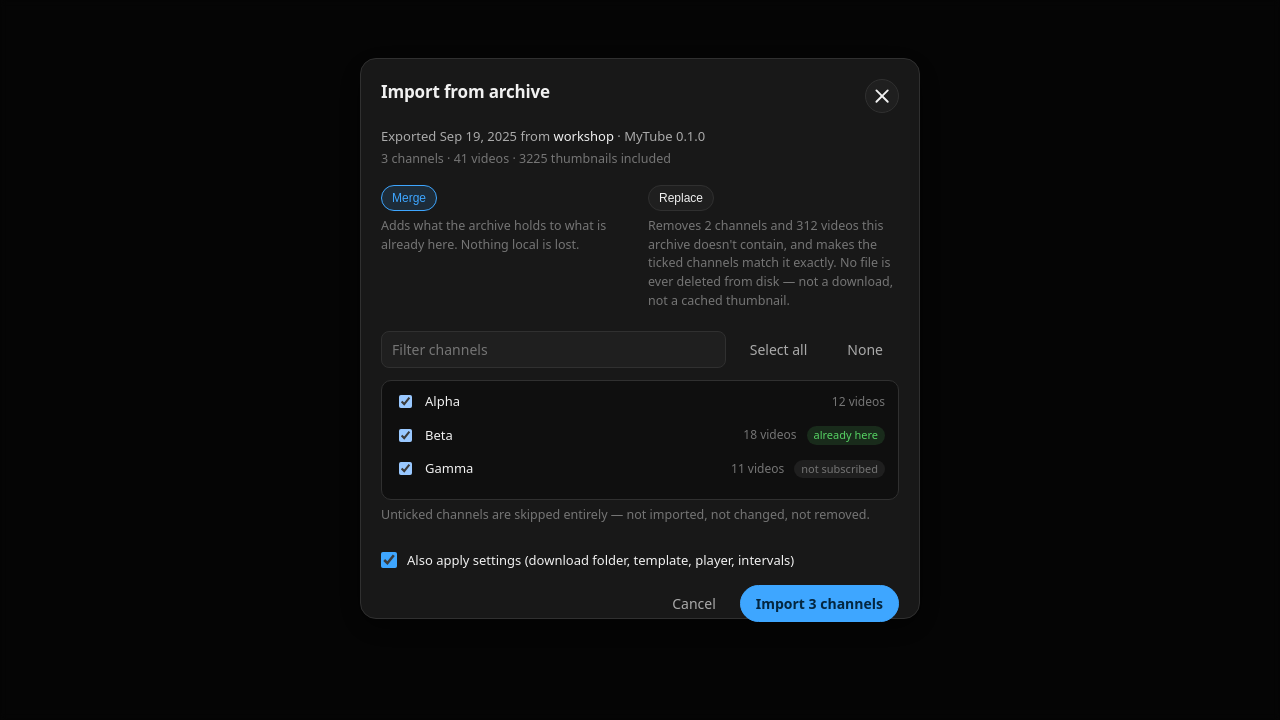
Test: TransferDialog › asks again before replacing, and imports nothing if that is cancelled
Click the button "Replace" at x=681, y=198, box x1=648 y1=185 x2=714 y2=211
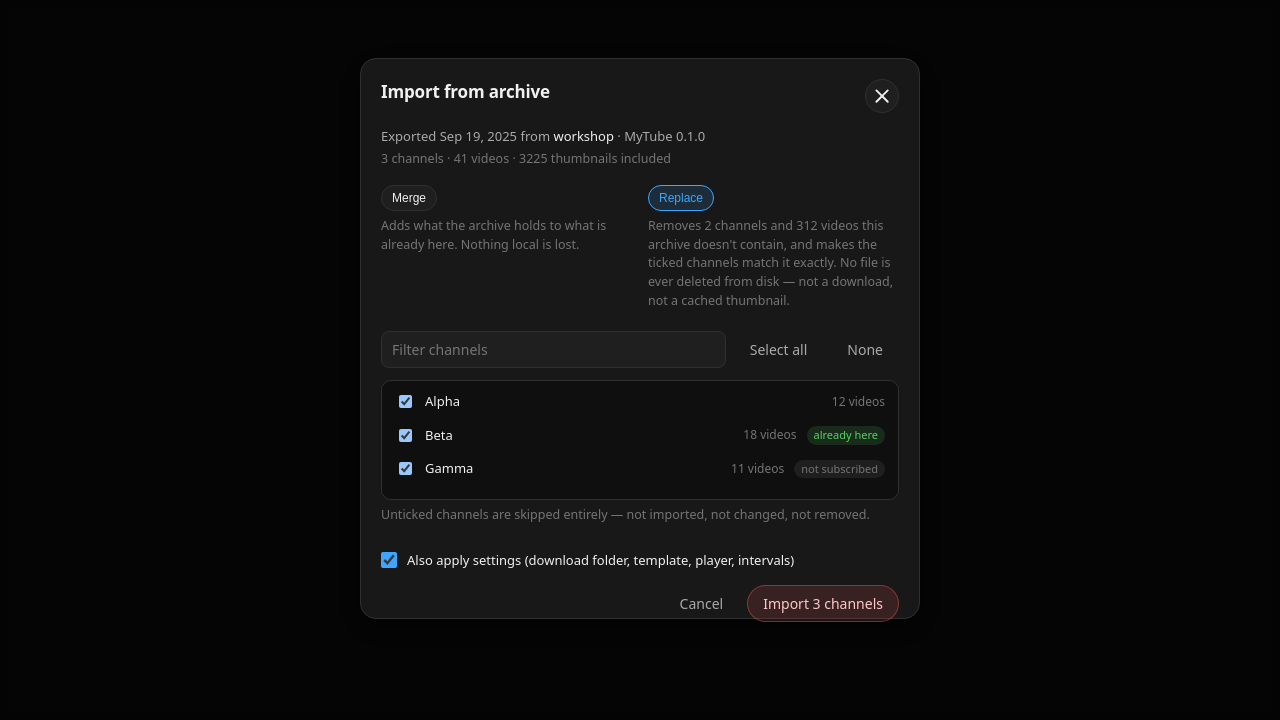
Click the button "Import 3 channels" at x=823, y=603, box x1=747 y1=585 x2=899 y2=622
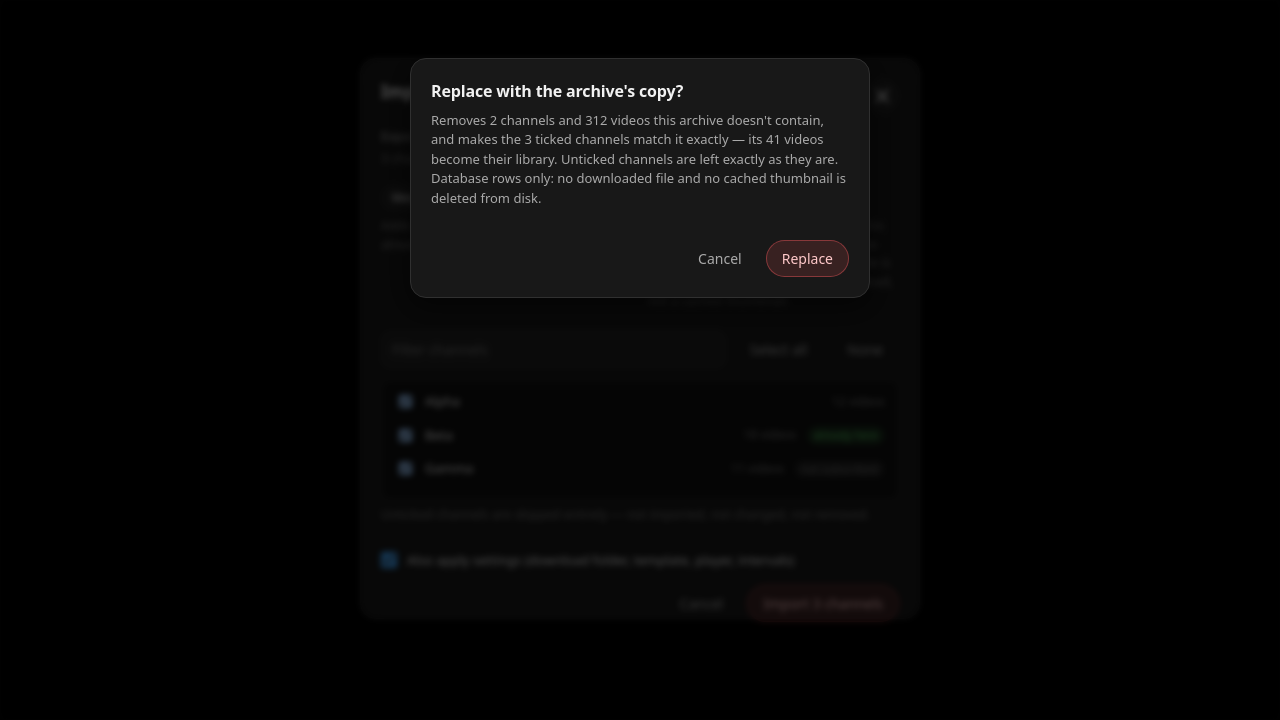
Click the button "Cancel" at x=720, y=259, box x1=682 y1=240 x2=758 y2=277
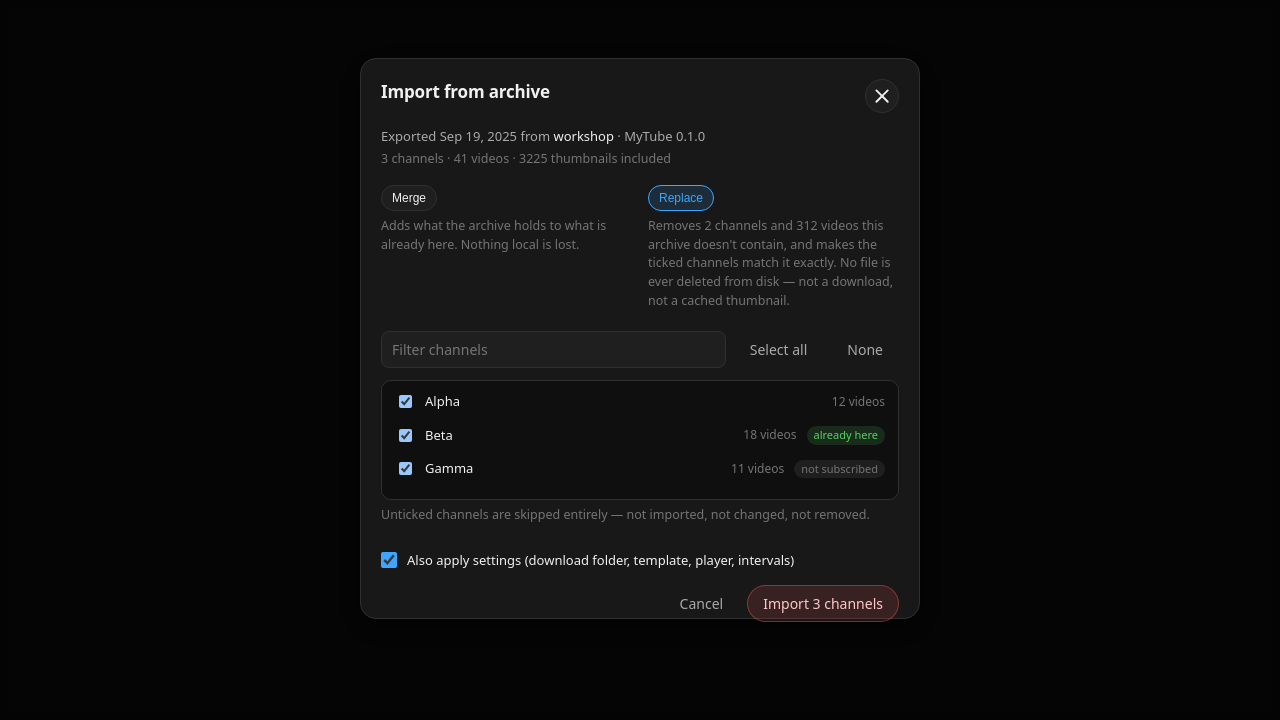
Check: the heading "Replace with the archive" is gone
